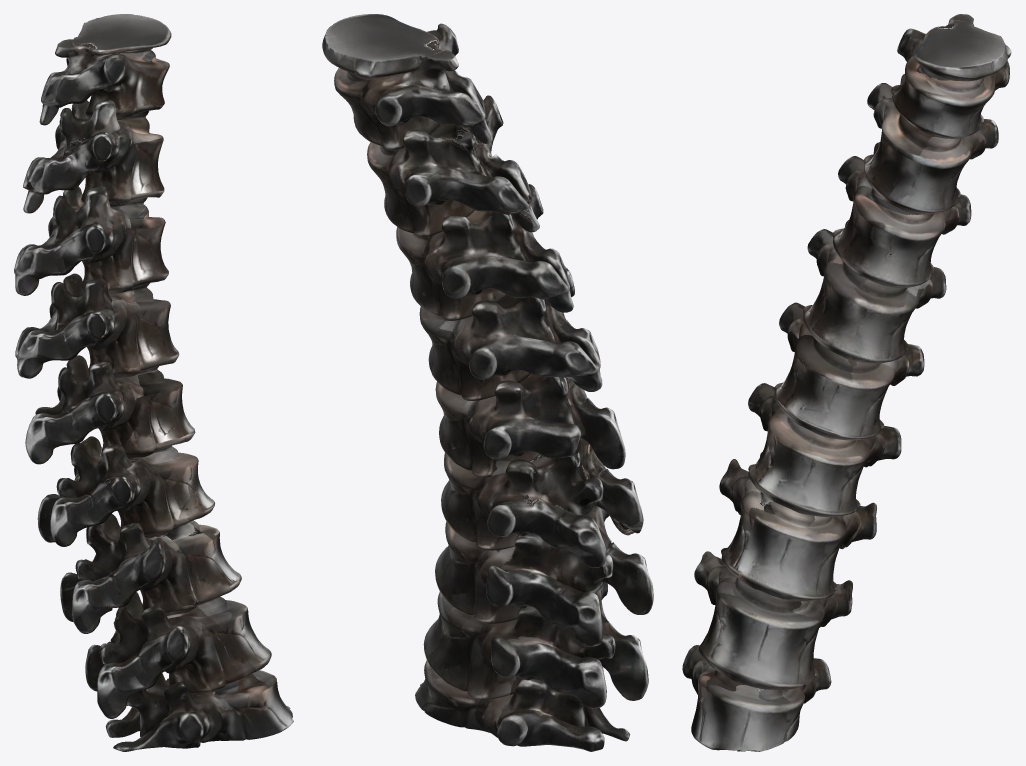
Rendered from spine-phone.glb.
3 views of the same model, side by side, from view 1: azimuth 30°, elevation 25°; view 2: azimuth 150°, elevation 25°; view 3: azimuth 270°, elevation 25° (orthographic). The views are drawn at different scales.
Parts seen in each view (by area): view 1: tripo_node_b2a1ff4f-8972-4df4-b4bd-6063b4841254; view 2: tripo_node_b2a1ff4f-8972-4df4-b4bd-6063b4841254; view 3: tripo_node_b2a1ff4f-8972-4df4-b4bd-6063b4841254.
Part boxes in pixels (x1,y1,x2,y2): tripo_node_b2a1ff4f-8972-4df4-b4bd-6063b4841254: (14,14,293,751); tripo_node_b2a1ff4f-8972-4df4-b4bd-6063b4841254: (322,14,653,751); tripo_node_b2a1ff4f-8972-4df4-b4bd-6063b4841254: (682,14,1011,751).
Size of the model in its own units: 0.3554 by 0.9821 by 0.4338.
1 material, 1 textured.
